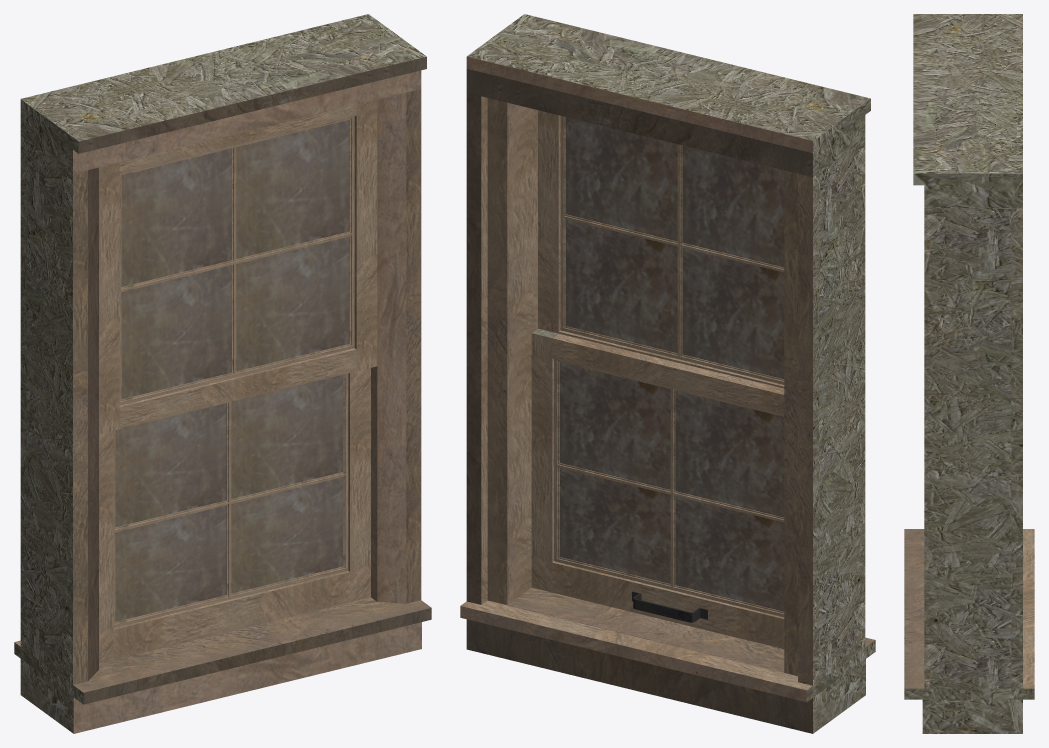
File: WindowFrameB.fbx
3 renders of one model, left to right at view 1: azimuth 30°, elevation 25°; view 2: azimuth 150°, elevation 25°; view 3: azimuth 270°, elevation 25°, orthographic. The views are drawn at different scales.
Parts seen in each view (by area): view 1: WindowFrameB, WindowB_Top, WindowB_Bottom; view 2: WindowFrameB, WindowB_Bottom, WindowB_Top; view 3: WindowFrameB.
Part boxes in pixels (box(x1,y1,x2,y2)): WindowFrameB: box(14, 14, 431, 733); WindowB_Top: box(99, 99, 377, 433); WindowB_Bottom: box(99, 368, 370, 663); WindowFrameB: box(460, 14, 875, 733); WindowB_Bottom: box(531, 328, 784, 648); WindowB_Top: box(538, 110, 784, 388); WindowFrameB: box(904, 14, 1034, 733).
Size of the model in its own units: 107 by 176 by 37.02.
